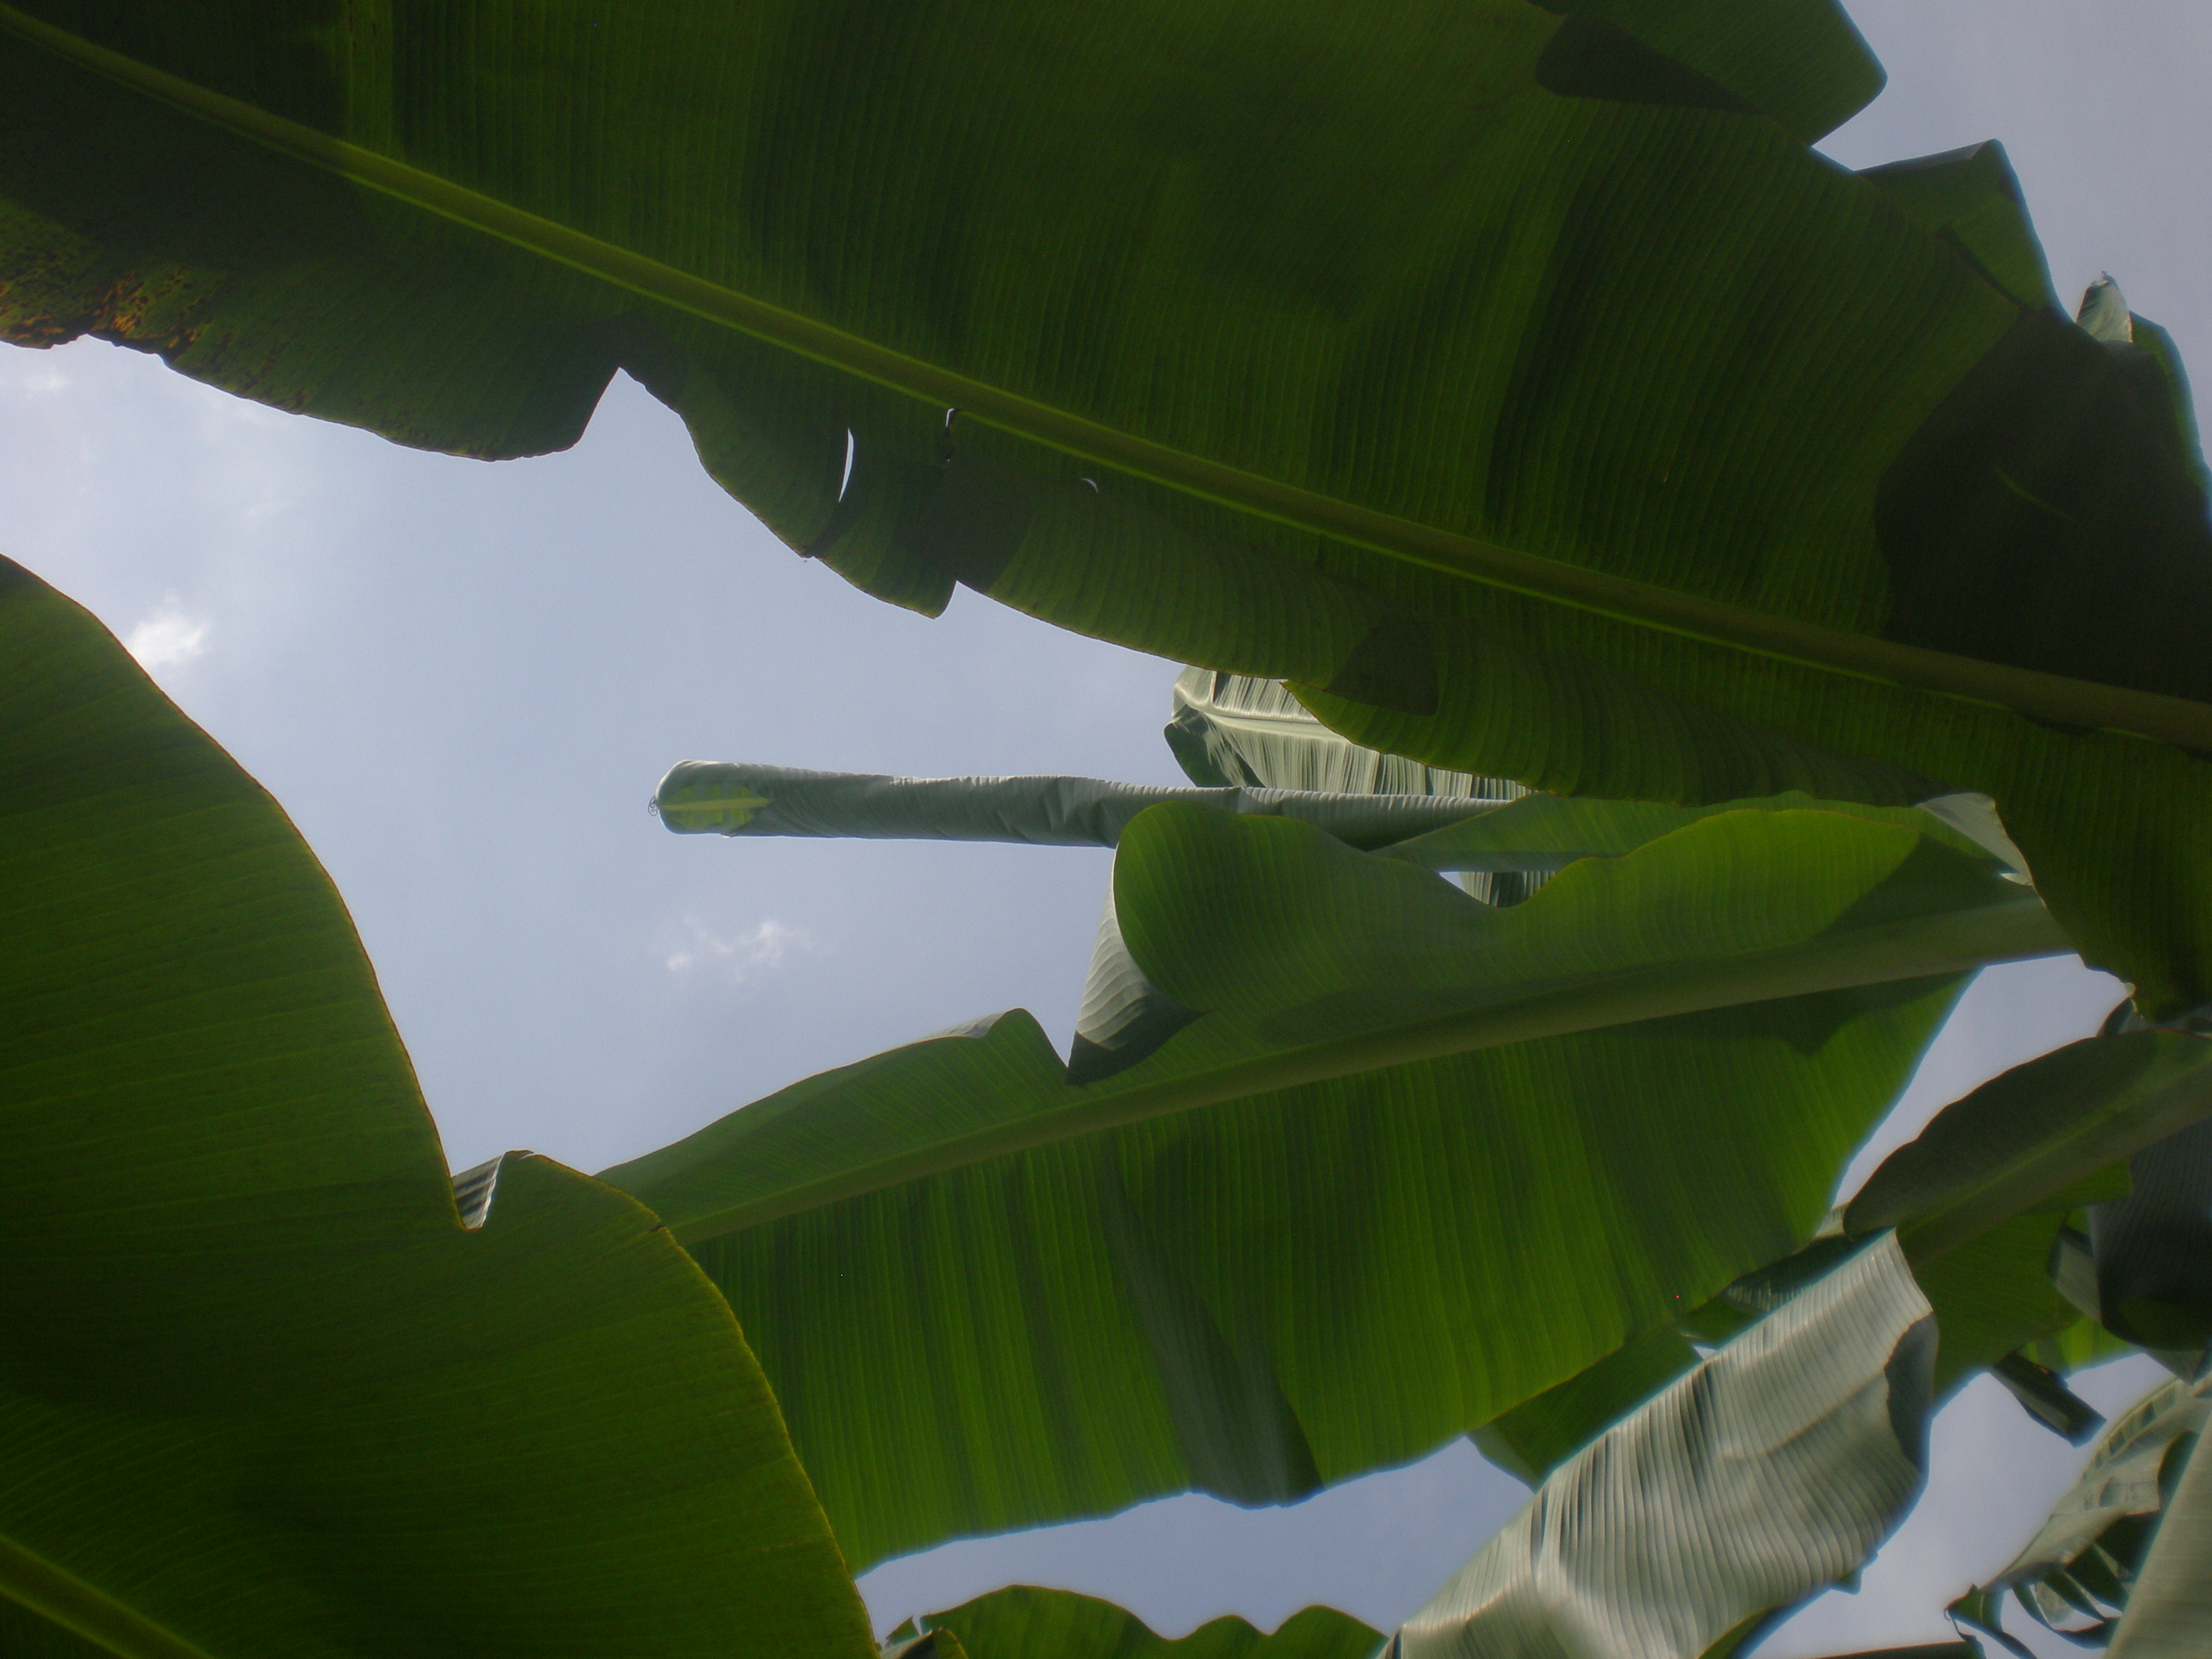candleleafs: (651, 755, 1503, 866)
